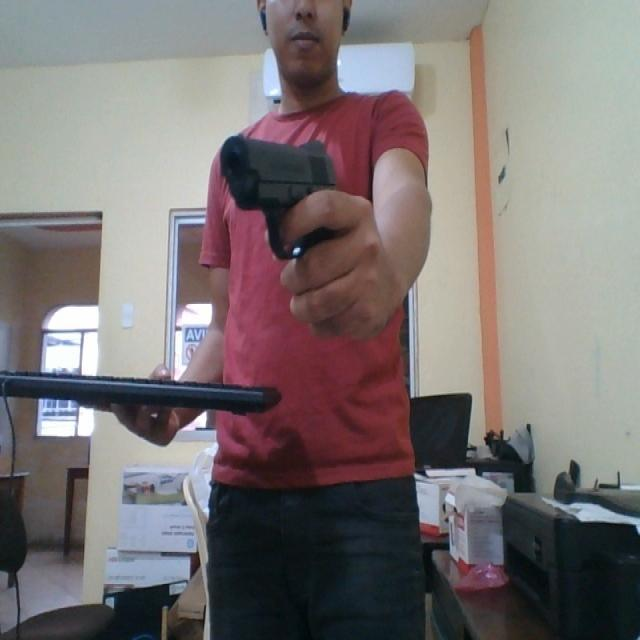weapon: (219, 131, 340, 262)
